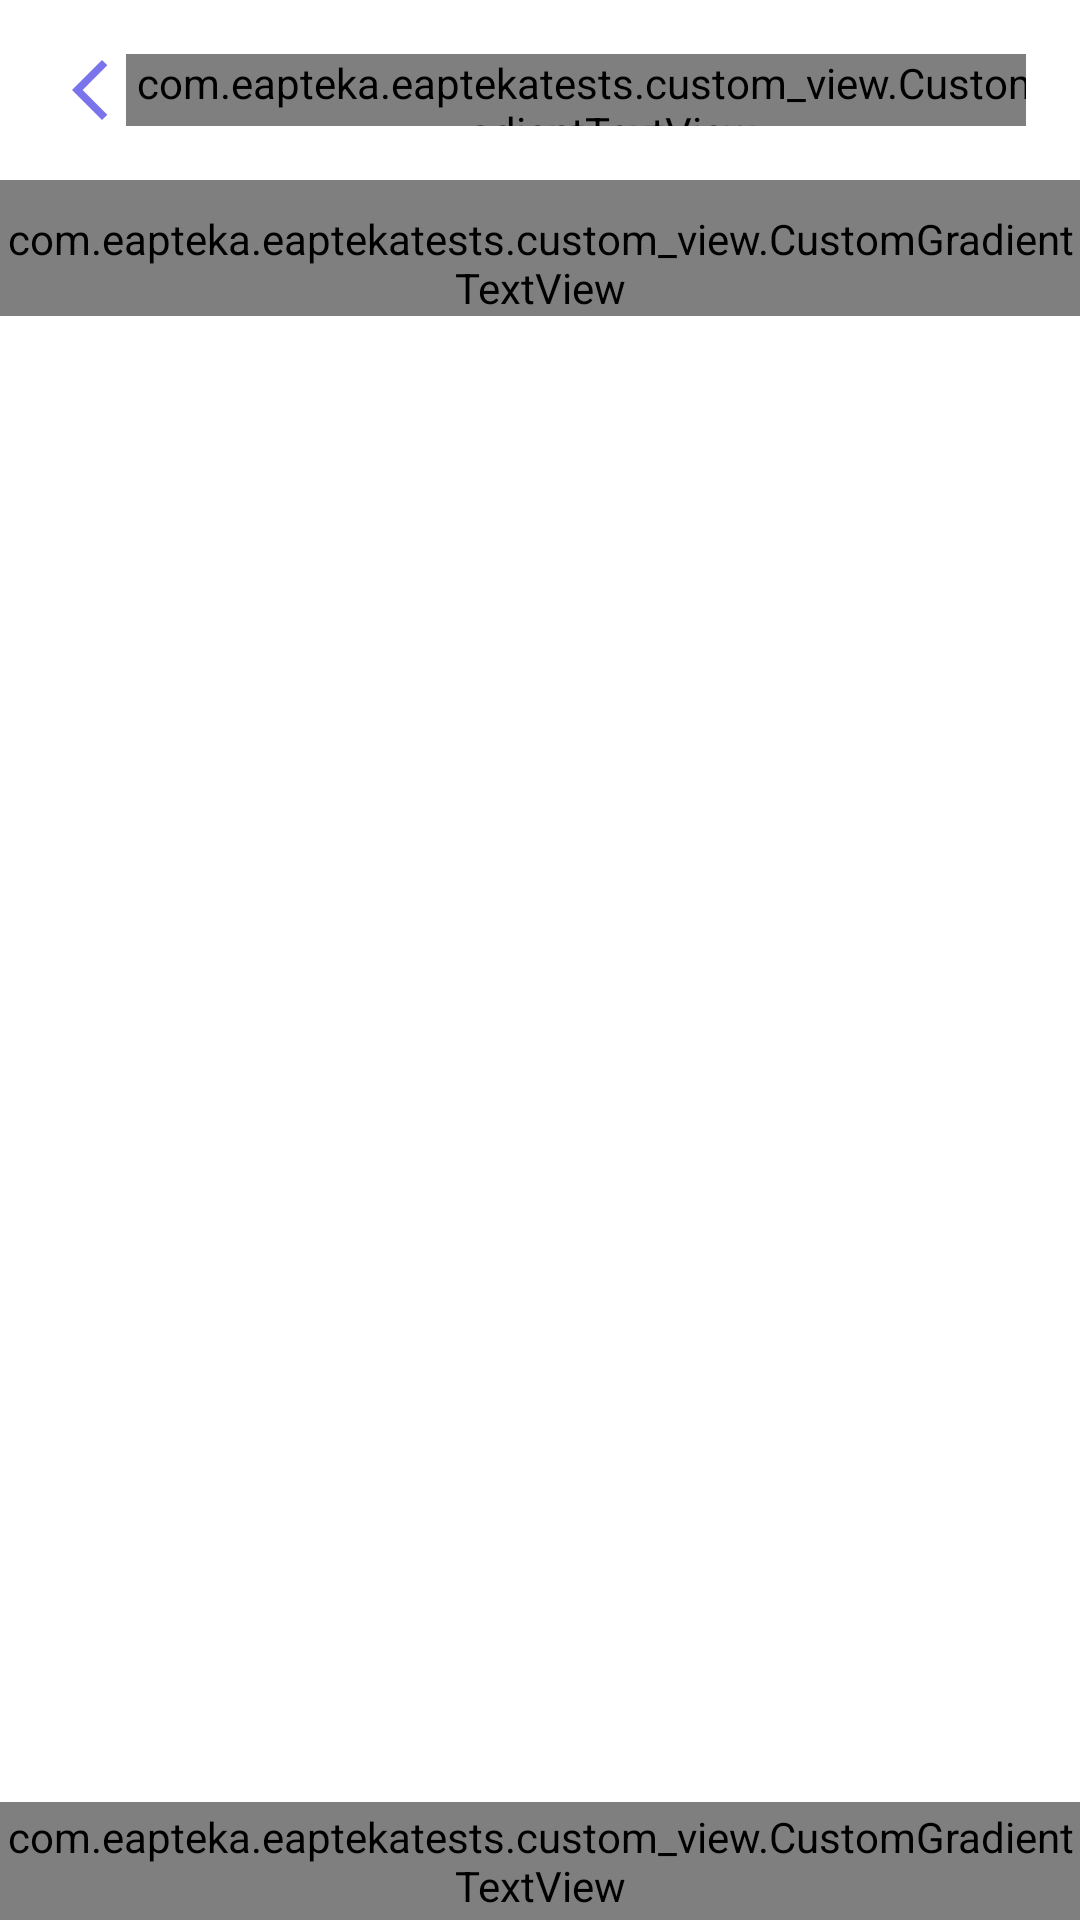

Point at icon controls on the screen. Image size 1080w x 1920h, points as (x=x, y=y).
arrow back: (x=89, y=90)
